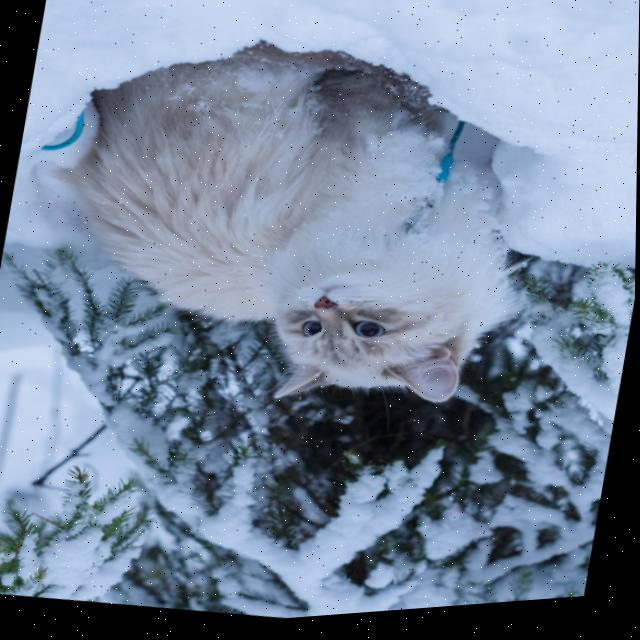Neva Masquerade: (10, 0, 570, 462)
